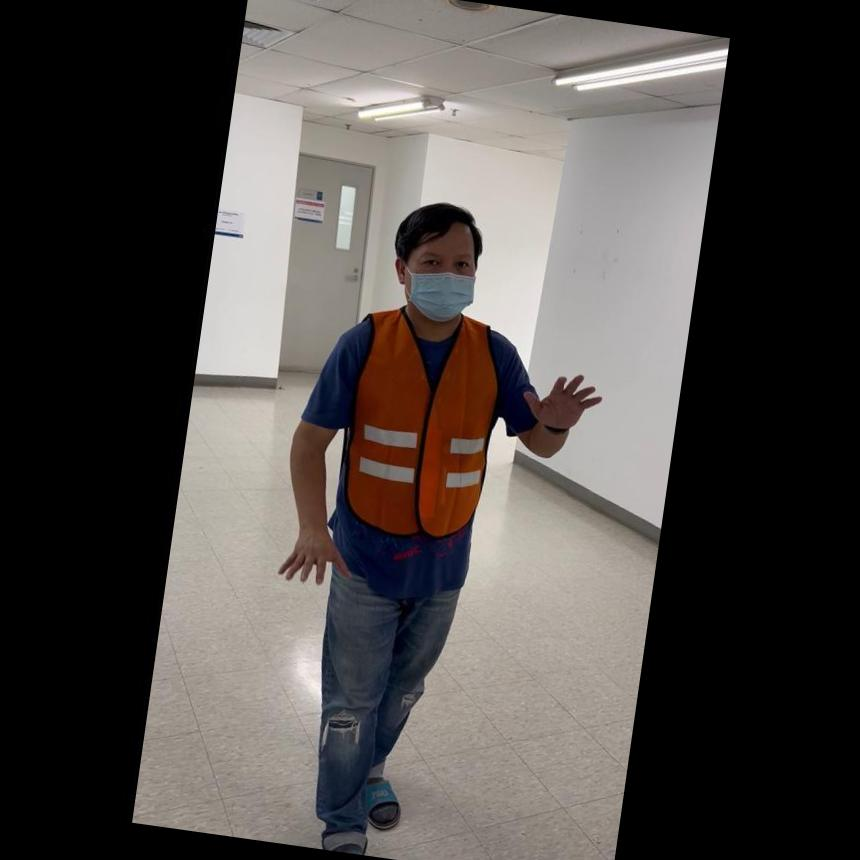No-gloves: (518, 360, 602, 436), (274, 516, 350, 590)
